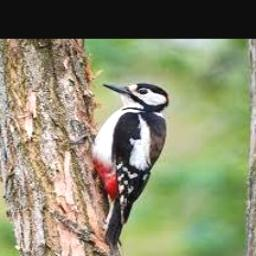Woodpecker: (91, 84, 169, 248)
